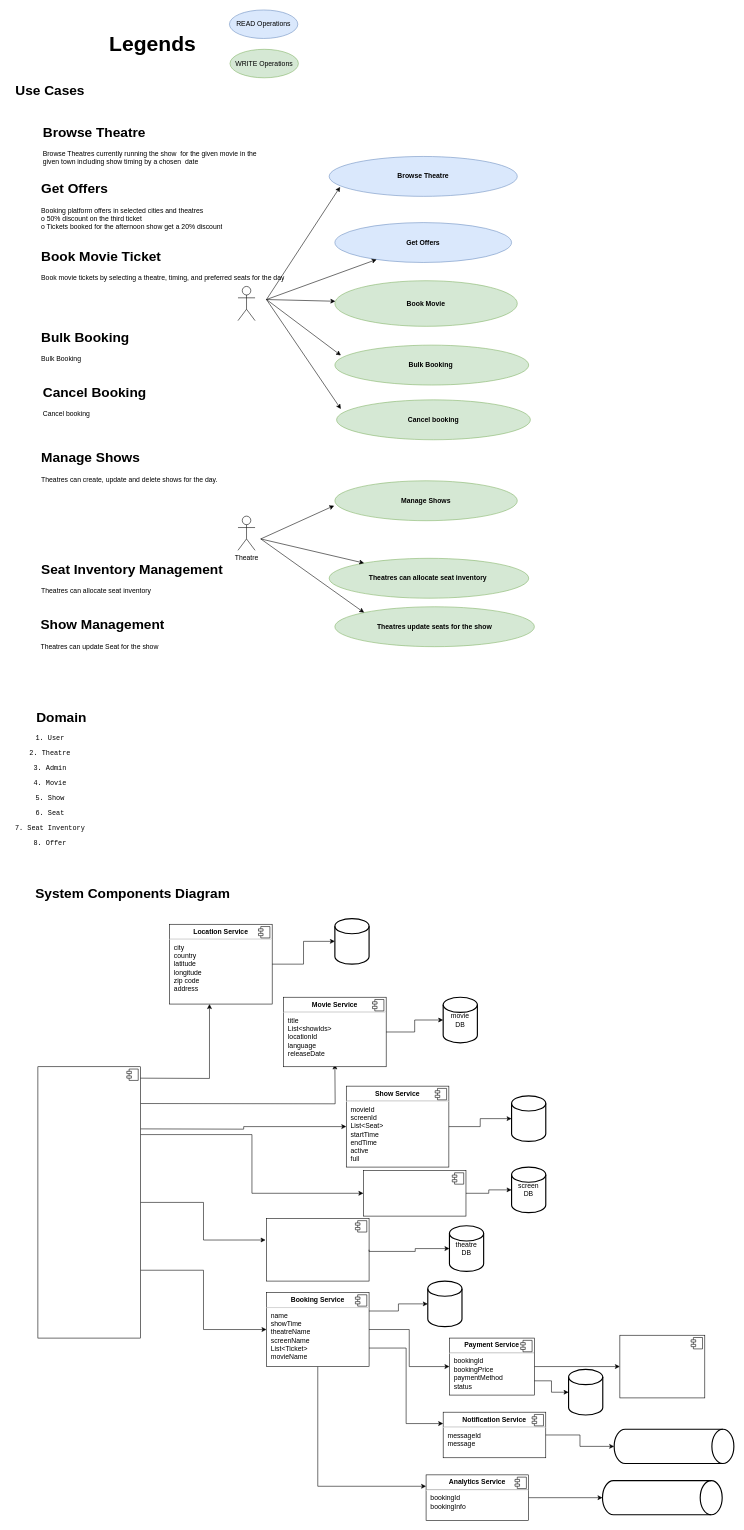
This 744x1530 diagram has some shape labels left out. Here are the shapes that lost their labels. From the top down, the centre of each, then its label:
[246,303]: User
[351,941]: location DB
[528,1118]: show DB
[89,1202]: Client
[414,1193]: Screen Service movieId theatreId showId
[317,1249]: Theatre Service locationId name List<showId> List<movieId> List<screenid>
[444,1303]: booking DB
[662,1366]: Payment Gateway
[585,1392]: payment DB
[673,1446]: Kafka/SQS(notification)
[662,1497]: Kafka/SQS(analytics)
